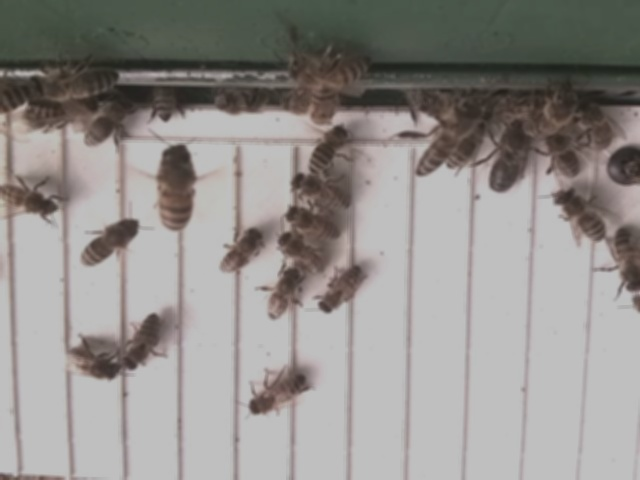Drone: (486, 120, 532, 197)
Worker: (412, 102, 469, 179), (156, 143, 195, 233), (77, 217, 138, 271), (553, 185, 606, 246), (34, 66, 120, 101), (246, 371, 308, 418), (287, 172, 351, 212), (316, 265, 365, 317), (121, 312, 162, 374), (217, 225, 262, 278), (276, 231, 325, 278), (306, 125, 350, 177), (283, 205, 341, 244), (82, 103, 128, 151), (0, 183, 59, 220), (610, 225, 640, 296), (66, 346, 122, 384), (543, 129, 583, 182), (265, 268, 301, 325)
